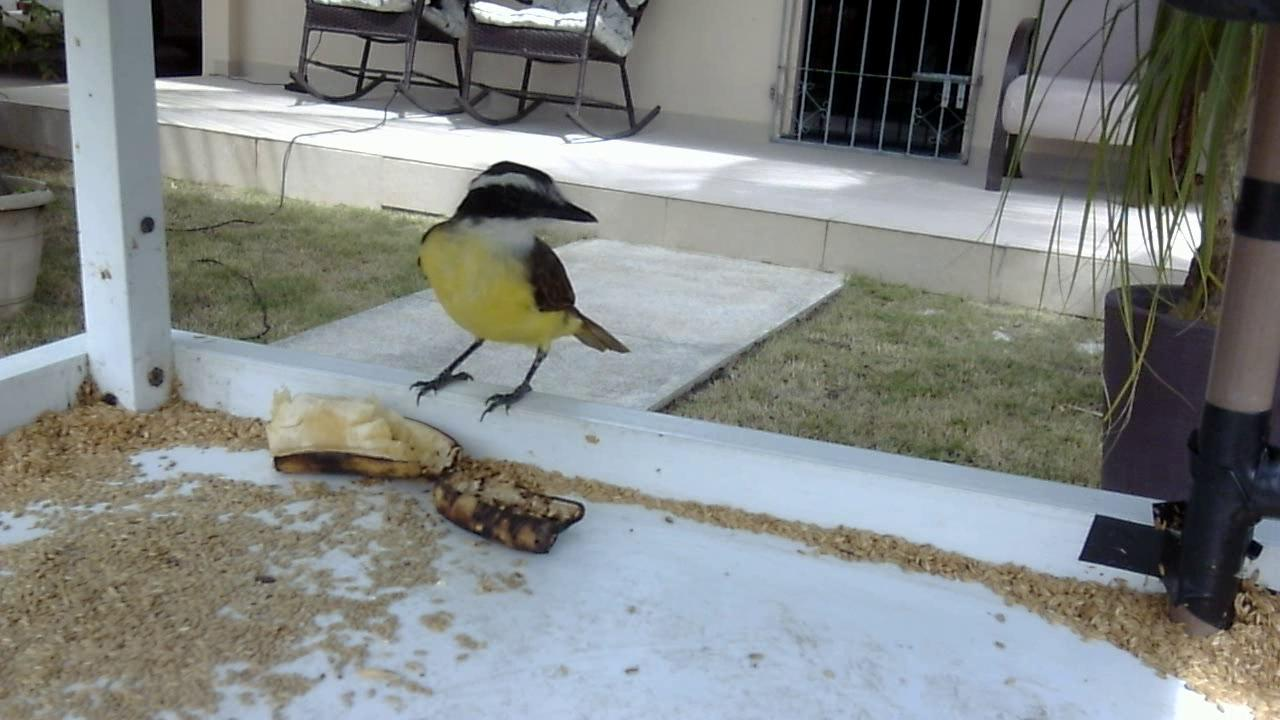bem_te_vi: (390, 149, 633, 434)
